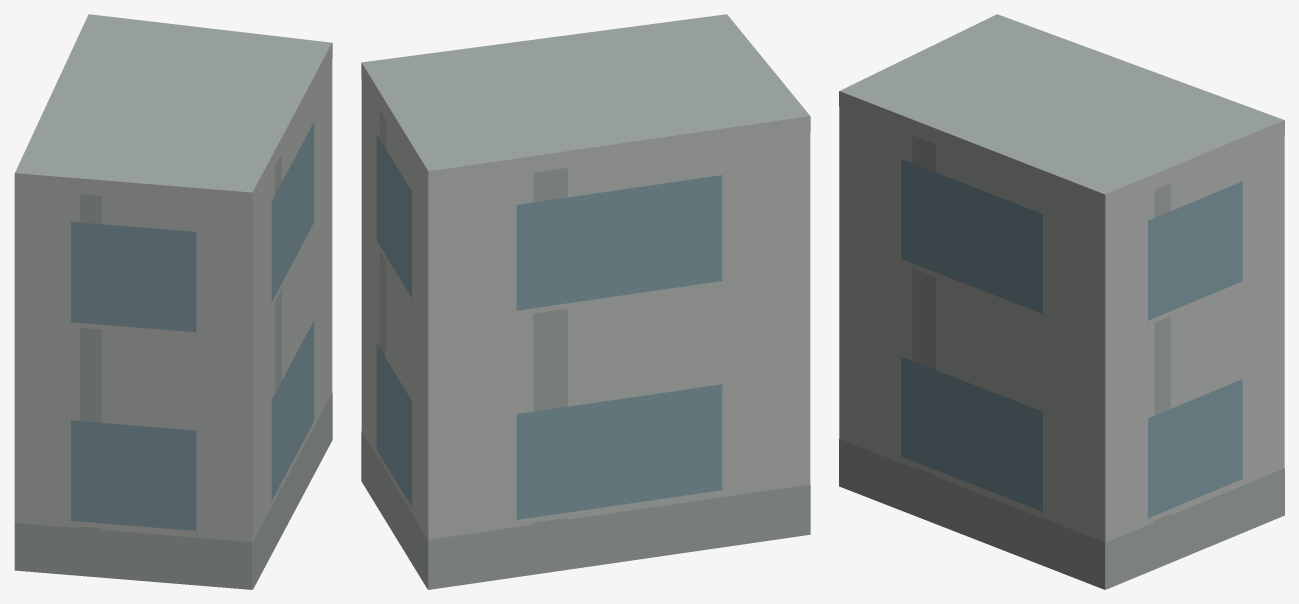
The model's file is survey-upis-32634924.glb.
3 renders of one model, left to right at view 1: azimuth 30°, elevation 25°; view 2: azimuth 150°, elevation 25°; view 3: azimuth 270°, elevation 25°, orthographic. The views are drawn at different scales.
Visible parts, largest first — view 1: survey-upis-32634924.tmp; view 2: survey-upis-32634924.tmp; view 3: survey-upis-32634924.tmp.
Part boxes in pixels (x1,y1,x2,y2): survey-upis-32634924.tmp: (14, 14, 332, 589); survey-upis-32634924.tmp: (361, 14, 810, 589); survey-upis-32634924.tmp: (839, 14, 1284, 589).
Bounding box in the file's own units: 5.98 × 6.1 × 6.24.
